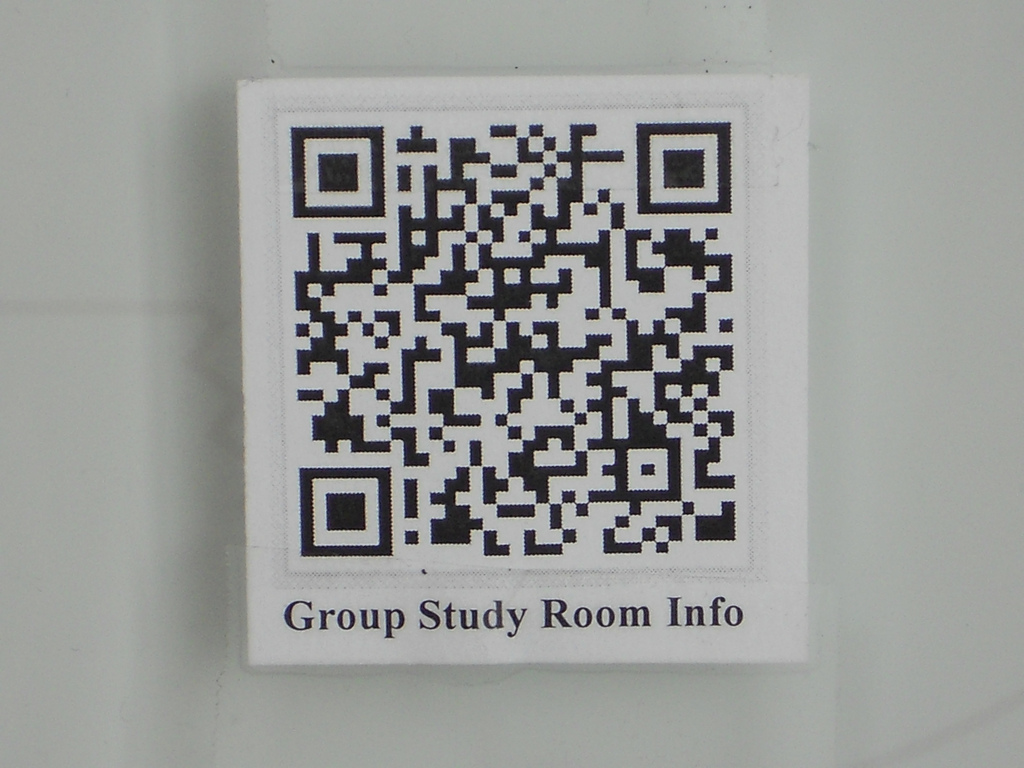QR-CODE: (290, 122, 735, 555)
